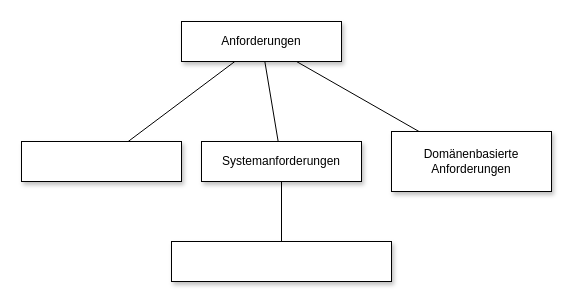
The diagram is 575 pixels wide and 306 high, and some of its shapes have lost their labels. The shapes that lost their labels are listed below. From the top down, each one's centre as x and y in pixels, then its label:
the point at 102,162: Nutzeranforderungen
the point at 282,262: Komponentenanforderungen
